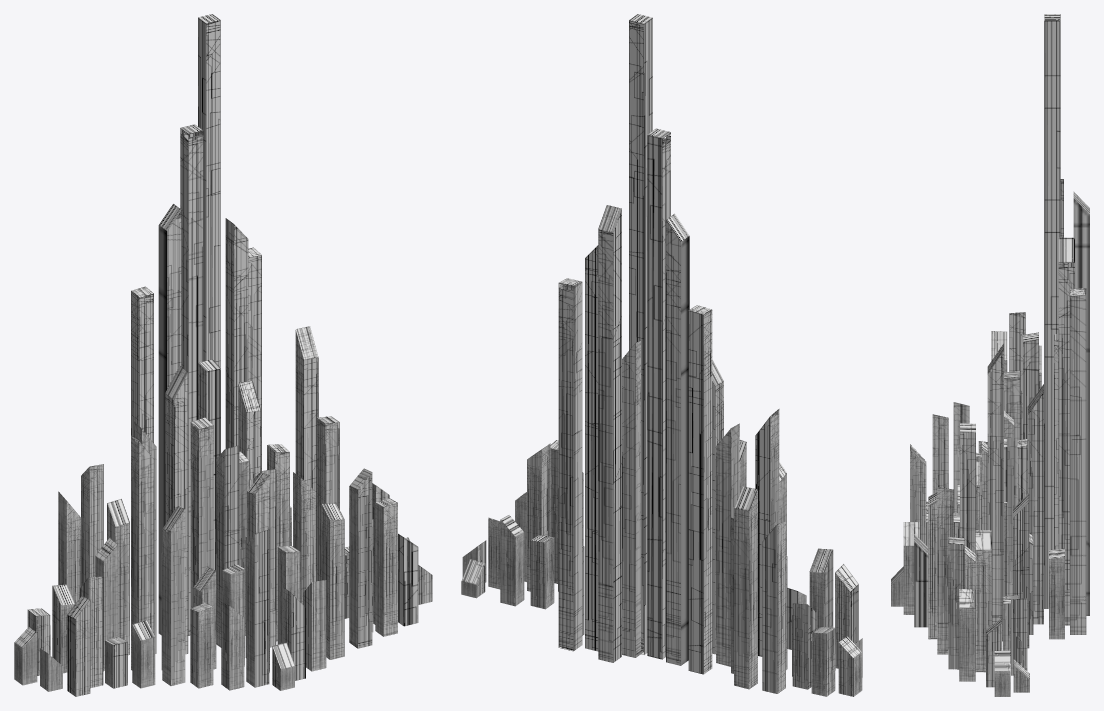
Rendered from indústria background tetos triangulares.fbx.
The picture shows the model from 3 angles, left to right: view 1: azimuth 30°, elevation 25°; view 2: azimuth 150°, elevation 25°; view 3: azimuth 270°, elevation 25°; orthographic projection. The views are drawn at different scales.
Parts seen in each view (by area): view 1: Cube.001; view 2: Cube.001; view 3: Cube.001.
Part boxes in pixels (x1,y1,x2,y2): Cube.001: (14, 14, 432, 696); Cube.001: (461, 14, 862, 696); Cube.001: (891, 14, 1089, 696).
Size of the model in its own units: 2243 by 3321 by 1016.
